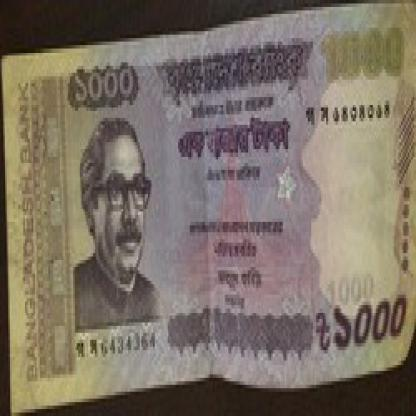One Thousand taka: (315, 295, 411, 350), (316, 28, 411, 83), (68, 62, 138, 108), (325, 270, 376, 305)
